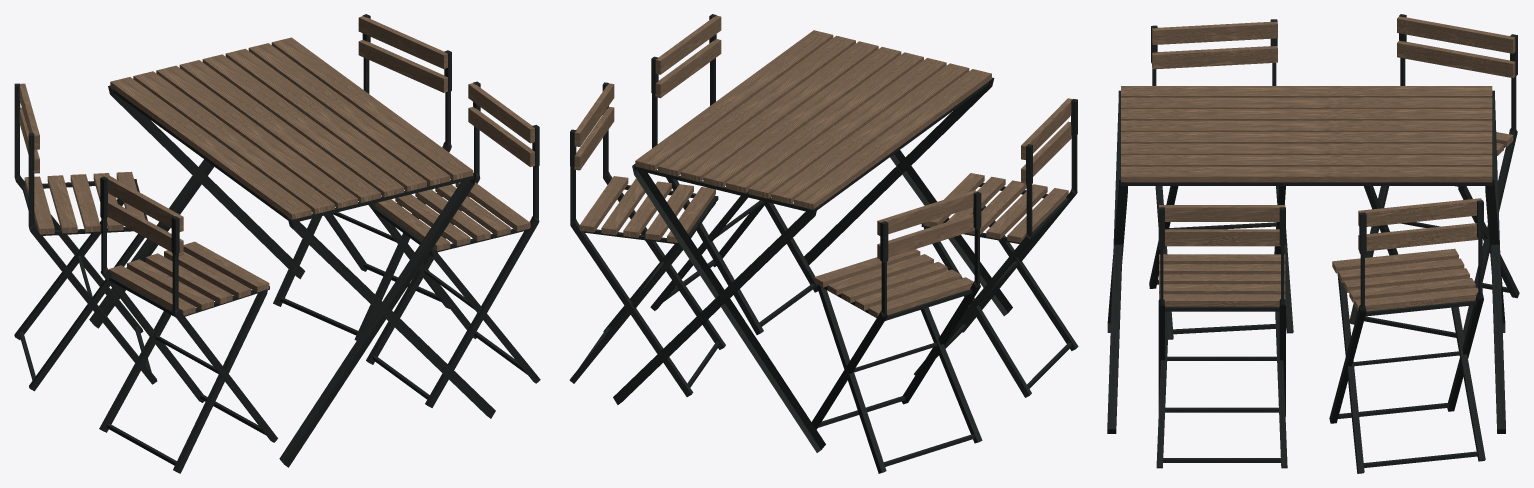
Rendered from tables_and_chairs.glb.
3 renders of one model, left to right at view 1: azimuth 30°, elevation 25°; view 2: azimuth 150°, elevation 25°; view 3: azimuth 270°, elevation 25°, orthographic. The views are drawn at different scales.
Visible parts, largest first — view 1: Table, Chair2, Chair1, Chair4, Chair3; view 2: Table, Chair4, Chair3, Chair2, Chair1; view 3: Table, Chair3, Chair1, Chair4, Chair2.
Boxes of the visible parts, x1,y1,x2,y2 form: Table: [89, 37, 495, 467]; Chair2: [99, 175, 277, 473]; Chair1: [366, 81, 540, 407]; Chair4: [14, 83, 157, 391]; Chair3: [273, 14, 451, 340]; Table: [613, 30, 1012, 452]; Chair4: [811, 190, 982, 473]; Chair3: [569, 82, 725, 396]; Chair2: [914, 98, 1078, 397]; Chair1: [650, 14, 818, 334]; Table: [1107, 86, 1505, 433]; Chair3: [1329, 198, 1485, 473]; Chair1: [1156, 205, 1287, 468]; Chair4: [1349, 14, 1519, 339]; Chair2: [1149, 19, 1293, 339].
Size of the model in its own units: 1.81 by 1.1 by 1.57.
Materials: 2 (2 with a texture image).
